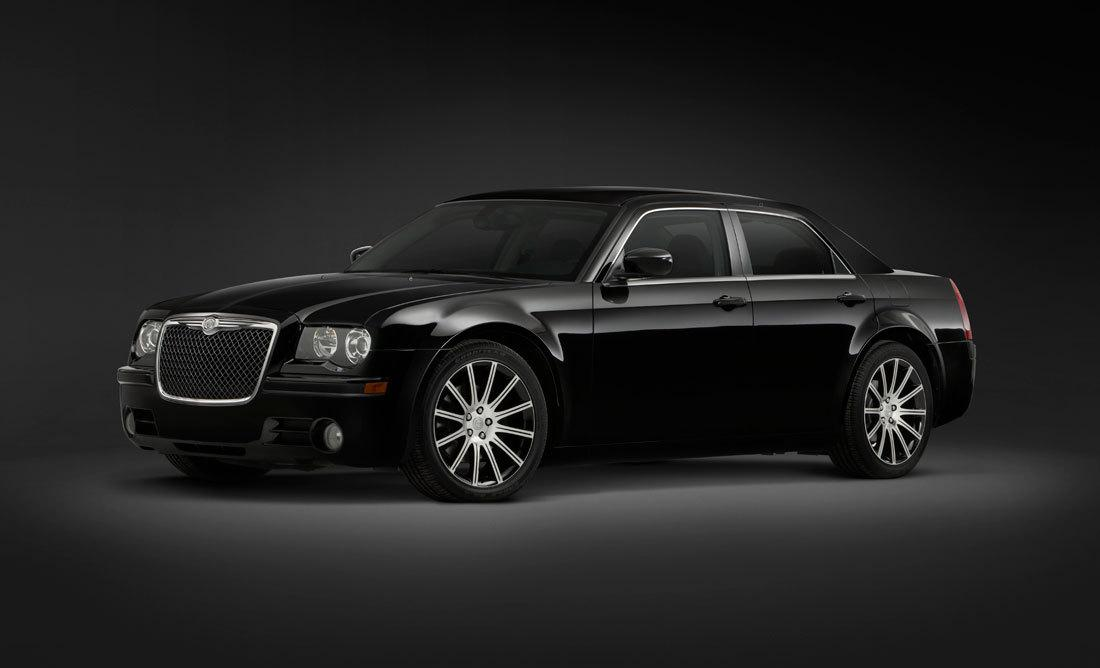Car: (72, 133, 1005, 537)
